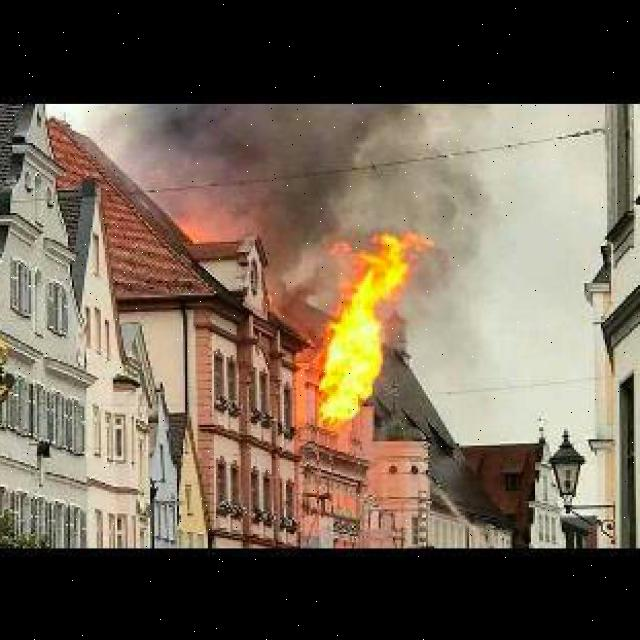smoke: (160, 102, 494, 227), (307, 227, 430, 417)
